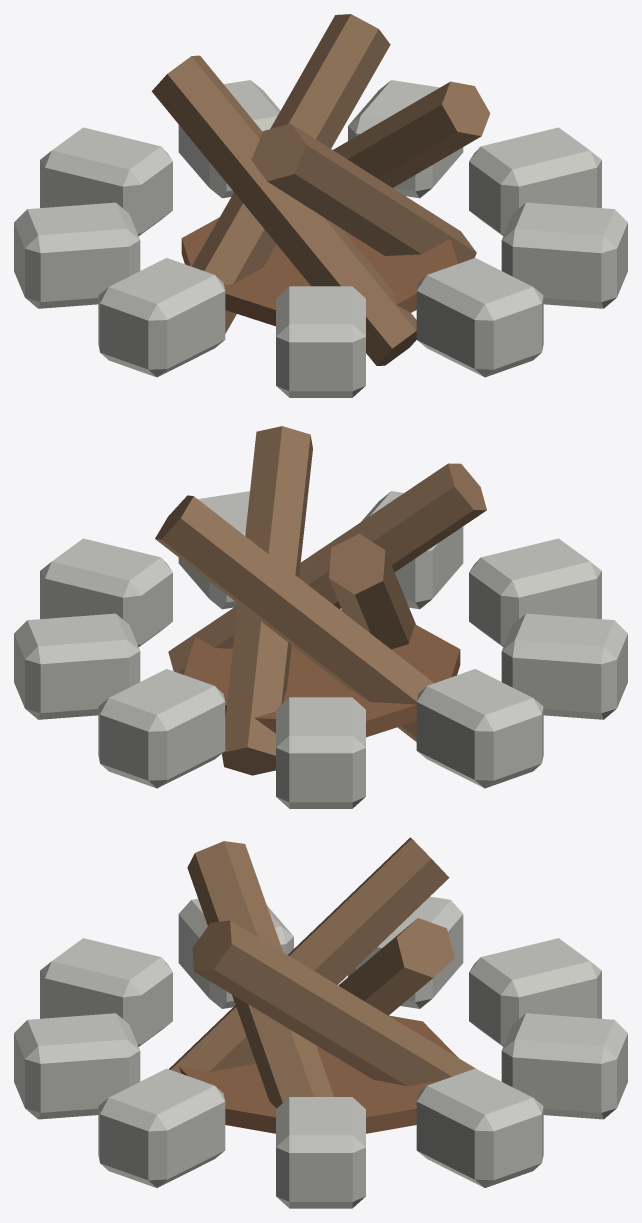
File: Campfire_Stones.glb
The picture shows the model from 3 angles, top to bottom: view 1: azimuth 30°, elevation 25°; view 2: azimuth 150°, elevation 25°; view 3: azimuth 270°, elevation 25°; orthographic projection.
Parts seen in each view (by area): view 1: Campfire_Stones; view 2: Campfire_Stones; view 3: Campfire_Stones.
Boxes of the visible parts, x1,y1,x2,y2 form: Campfire_Stones: (14, 14, 627, 397); Campfire_Stones: (14, 426, 627, 808); Campfire_Stones: (14, 837, 627, 1208).
Size of the model in its own units: 1.34 by 0.607 by 1.36.
